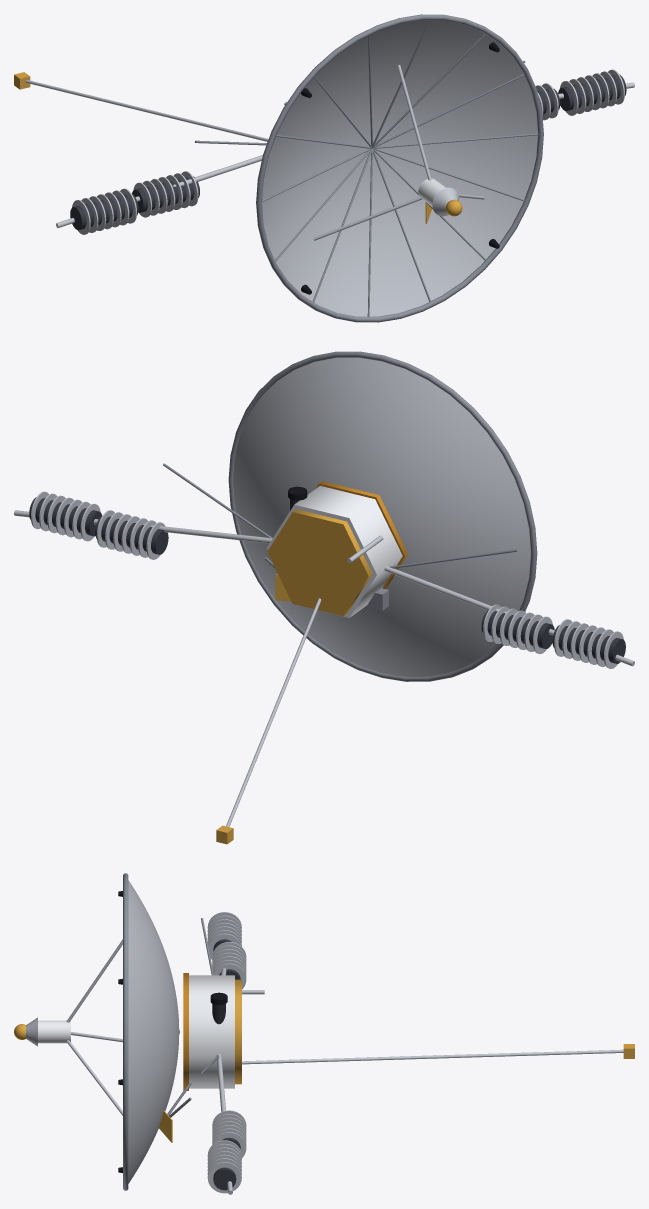
The model's file is pioneer.glb.
The picture shows the model from 3 angles, top to bottom: view 1: azimuth 30°, elevation 25°; view 2: azimuth 150°, elevation 25°; view 3: azimuth 270°, elevation 25°; orthographic projection. The views are drawn at different scales.
Parts seen in each view (by area): view 1: high-gain-dish, pioneer, rtg (×4); view 2: high-gain-dish, pioneer, rtg (×4); view 3: pioneer, high-gain-dish, rtg (×4).
Boxes of the visible parts, x1,y1,x2,y2 form: high-gain-dish: (262, 20, 537, 316); pioneer: (14, 14, 634, 322); rtg (×4): (70, 69, 626, 234); high-gain-dish: (233, 357, 530, 676); pioneer: (14, 351, 634, 844); rtg (×4): (29, 491, 625, 668); pioneer: (14, 873, 634, 1194); high-gain-dish: (128, 880, 179, 1183); rtg (×4): (207, 912, 246, 1193).
Size of the model in its own units: 5.61 by 2.79 by 5.45.
